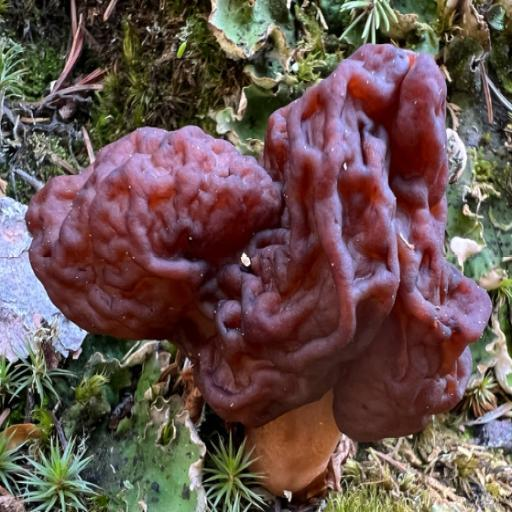mushroom: (29, 47, 490, 442)
